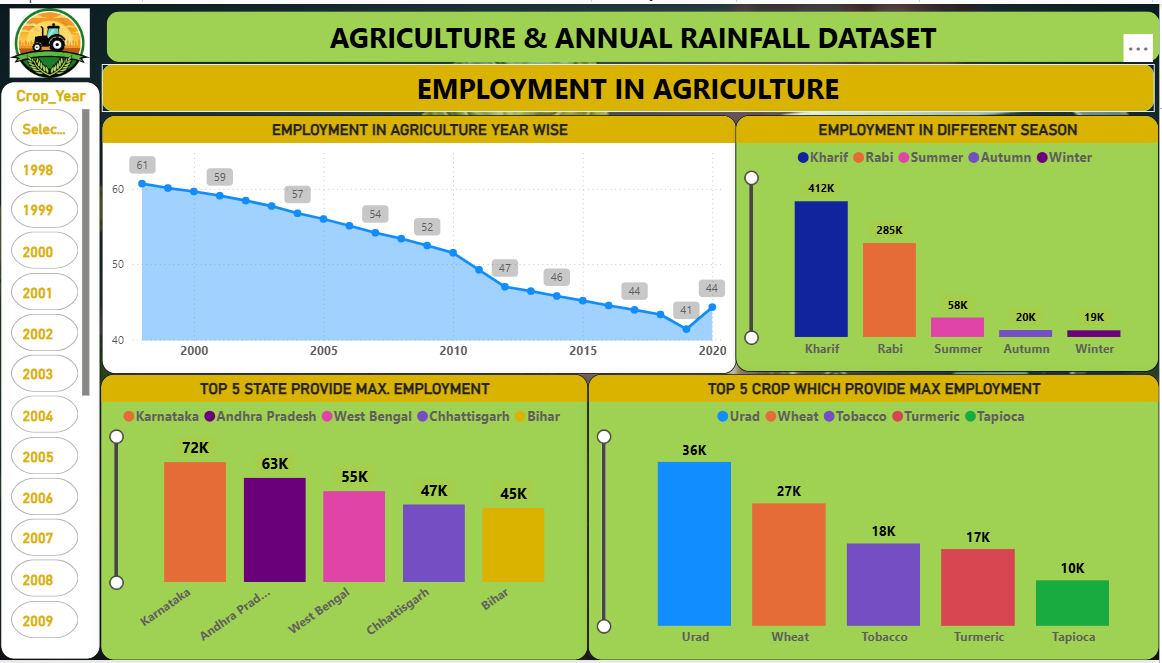

Layout of this report page (visuals, bound fields, positions):
{"tool":"powerbi","page":{"name":"Page 2","canvas":[1280,720],"ordinal":1},"visuals":[{"type":"image","box":[4.8,0,113.4,85.7],"z":0},{"type":"advancedSlicerVisual","fields":{"Values":["crop_yield.Crop_Year"]},"box":[8.4,85.7,109.8,634.6],"z":1},{"type":"shape","box":[124.3,8.4,1155.8,55.5],"z":2},{"type":"areaChart","title":"EMPLOYMENT IN AGRICULTURE YEAR WISE","fields":{"Category":["crop_yield.Crop_Year"],"Y":["Avg(crop_yield.Employment in Agriculture)"]},"box":[119.4,122.1,697.1,284],"z":5},{"type":"columnChart","title":"TOP 5 STATE PROVIDE MAX. EMPLOYMENT","fields":{"Category":["crop_yield.State"],"Y":["Sum(crop_yield.Employment in Agriculture)"],"Series":["crop_yield.State"]},"box":[118,406.2,535.2,314.2],"z":6},{"type":"shape","box":[119.4,65.9,1155.4,52.1],"z":7},{"type":"columnChart","title":"EMPLOYMENT IN DIFFERENT SEASON","fields":{"Category":["crop_yield.Season"],"Y":["Sum(crop_yield.Employment in Agriculture)"],"Series":["crop_yield.Season"]},"box":[815.1,122.1,465.2,281.3],"z":8},{"type":"columnChart","title":"TOP 5 CROP WHICH PROVIDE MAX EMPLOYMENT","fields":{"Category":["crop_yield.Crop"],"Y":["Sum(crop_yield.Employment in Agriculture)"],"Series":["crop_yield.Crop"]},"box":[653.2,406.2,627.1,314.2],"z":9}]}

Visuals, with their boxes in screenshot pixels (x1, y1, x2, y2), scaled from the page's 1280x720 canvas onto the 1162x663 screenshot:
image: <box>4,0,107,79</box>
advancedSlicerVisual - crop_yield.Crop_Year: <box>8,79,107,662</box>
shape: <box>113,8,1161,59</box>
"EMPLOYMENT IN AGRICULTURE YEAR WISE" areaChart: <box>108,112,741,374</box>
"TOP 5 STATE PROVIDE MAX. EMPLOYMENT" columnChart: <box>107,374,593,662</box>
shape: <box>108,61,1157,109</box>
"EMPLOYMENT IN DIFFERENT SEASON" columnChart: <box>740,112,1161,371</box>
"TOP 5 CROP WHICH PROVIDE MAX EMPLOYMENT" columnChart: <box>593,374,1161,662</box>
